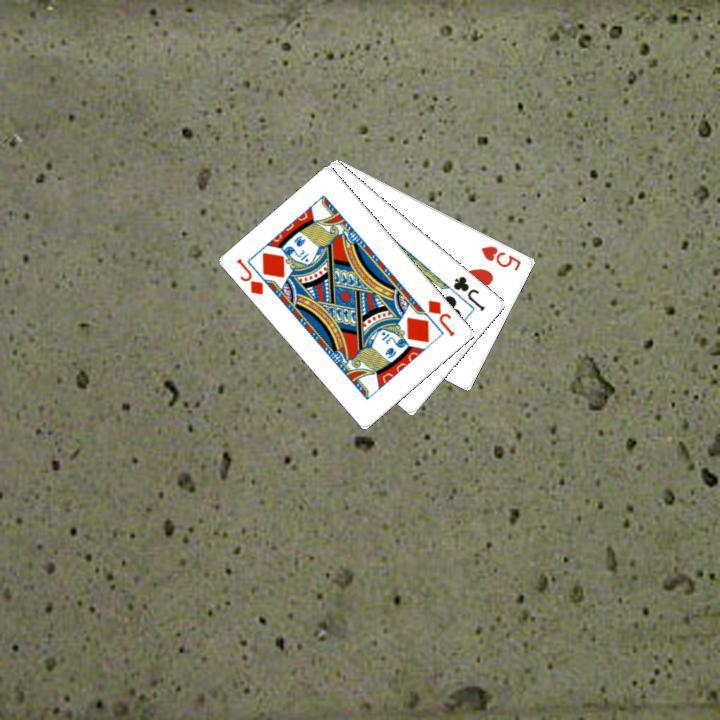5: (477, 241, 524, 273)
J: (449, 271, 487, 313), (232, 254, 266, 297), (424, 295, 457, 338)
